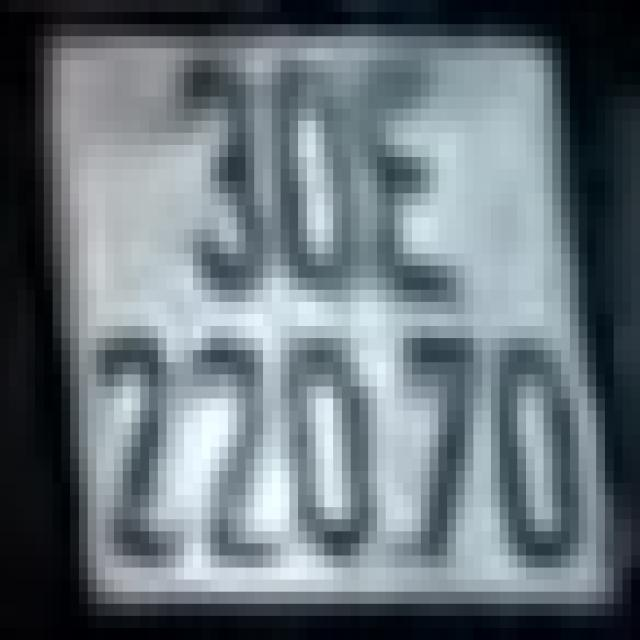0: (285, 326, 381, 556), (272, 54, 359, 296), (495, 332, 583, 562)
2: (92, 332, 189, 562), (193, 332, 280, 562)
3: (175, 54, 272, 296)
7: (399, 326, 478, 568)
E: (364, 60, 469, 302)
